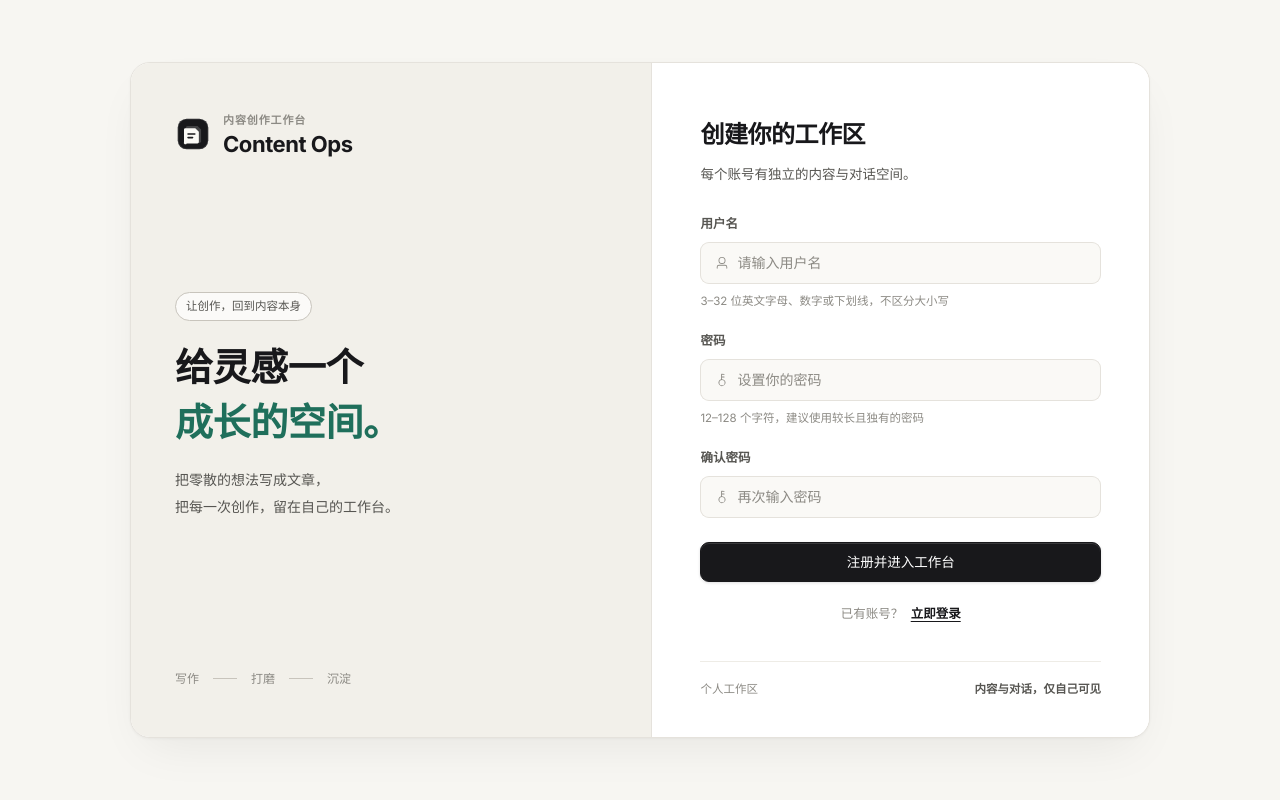
account entry › validates registration input for 中文用户
Type "中文用户" into the field labelled "用户名 3–32 位英文字母、数字或下划线，不区分大小写" at point(912, 263), box 737,244 -> 1086,282
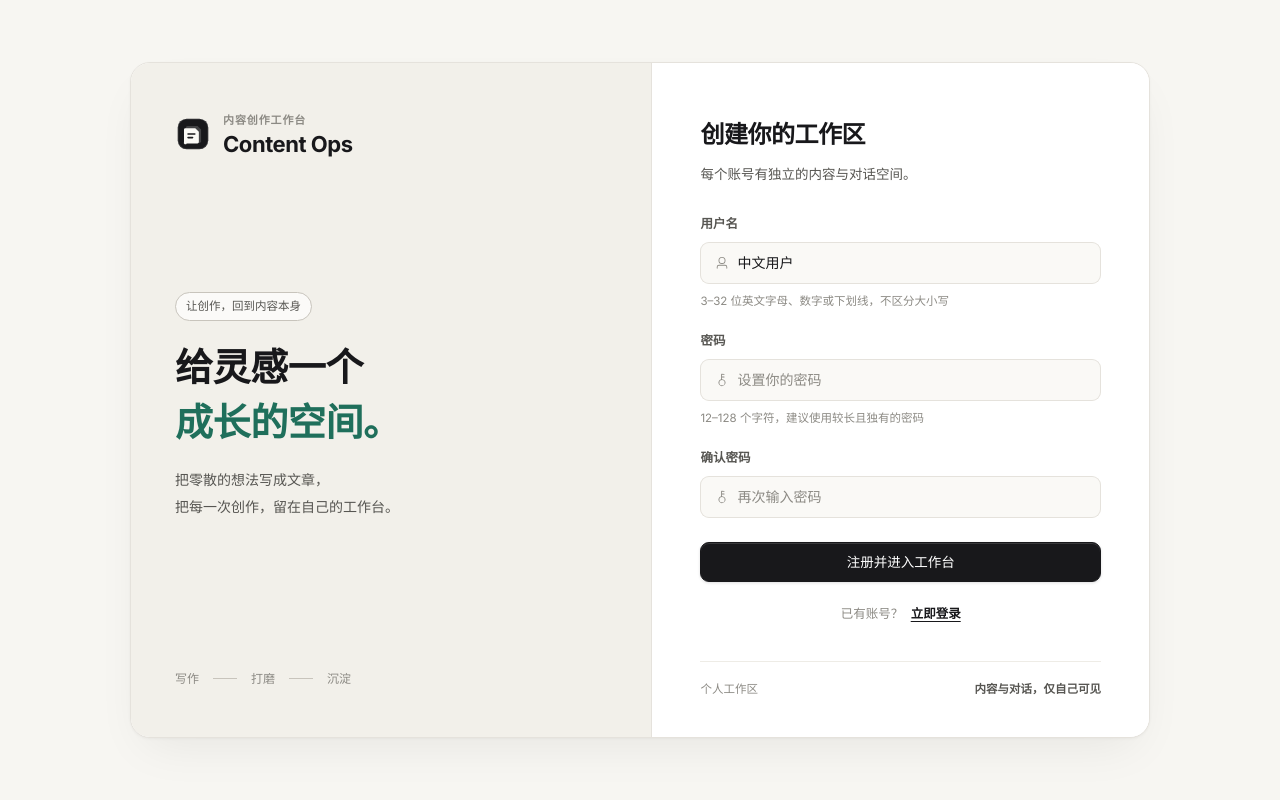
Type "a long passphrase" into the password field labelled "密码 12–128 个字符，建议使用较长且独有的密码" at point(912, 380), box 737,361 -> 1086,399
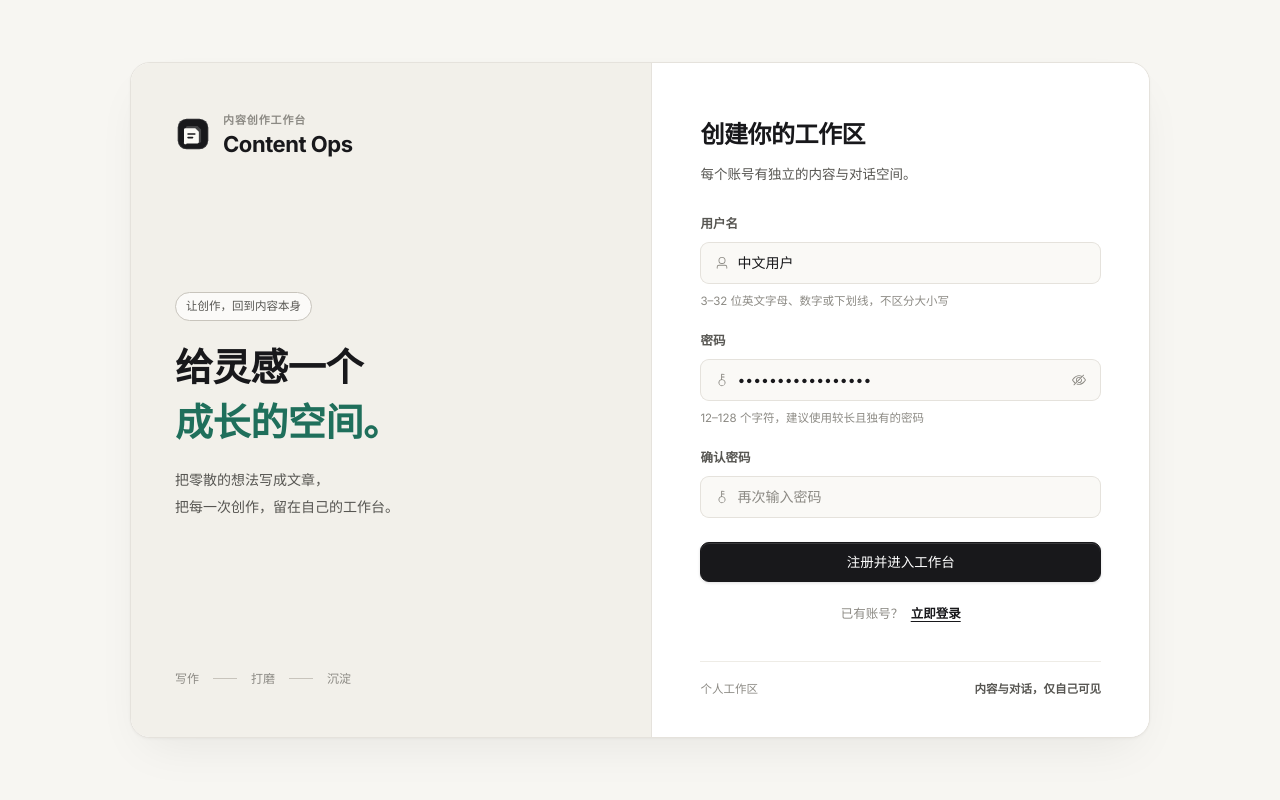
Type "a long passphrase" into the password field labelled "确认密码" at point(912, 497), box 737,478 -> 1086,516
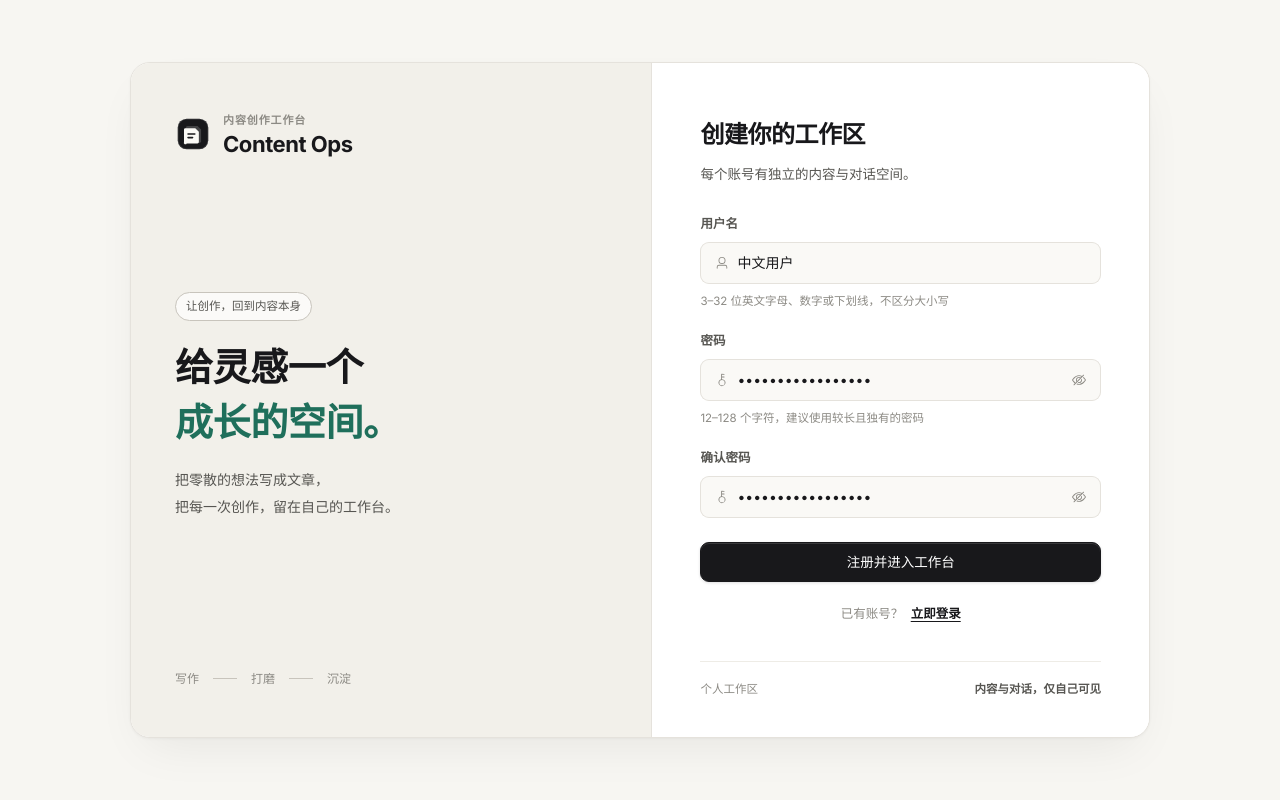
Submit the form, box 700,186 -> 1101,582
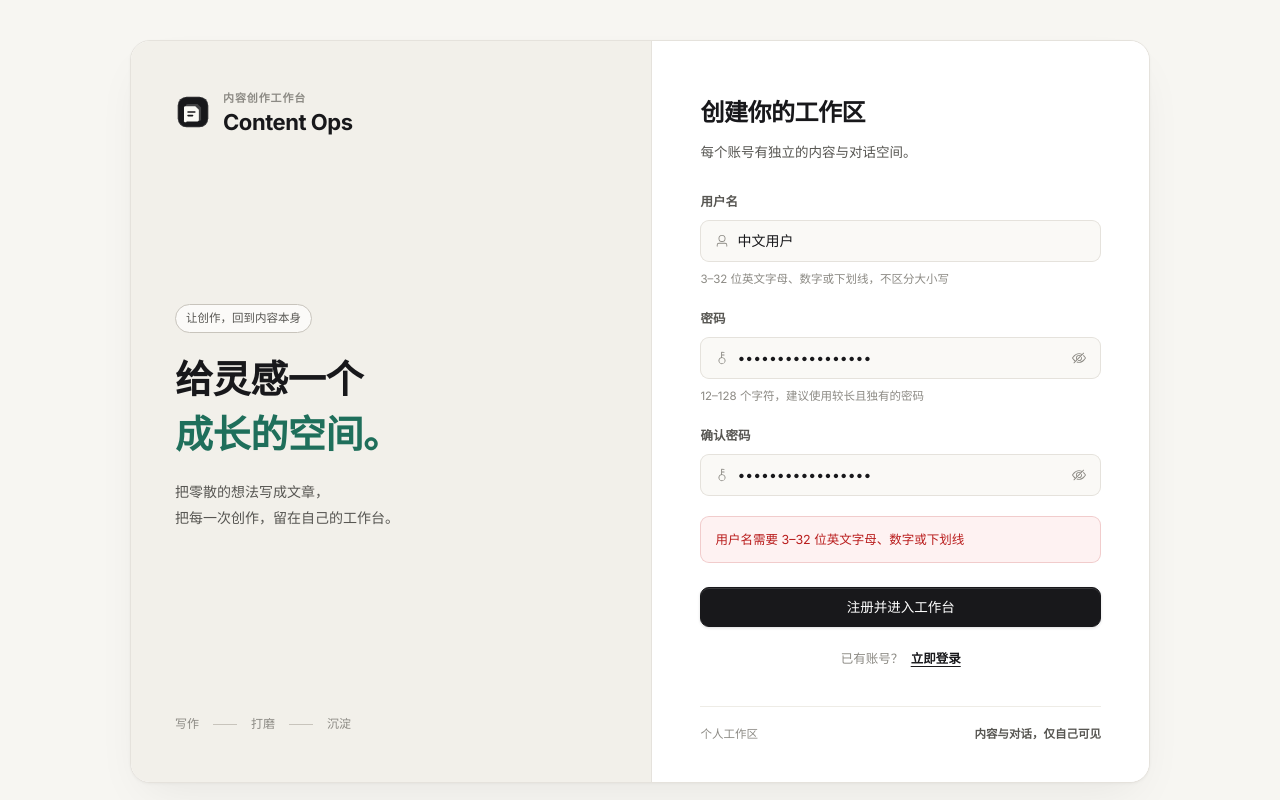
Check: the message "用户名需要 3–32 位英文字母、数字或下划线" is shown, box 700,516 -> 1101,564
